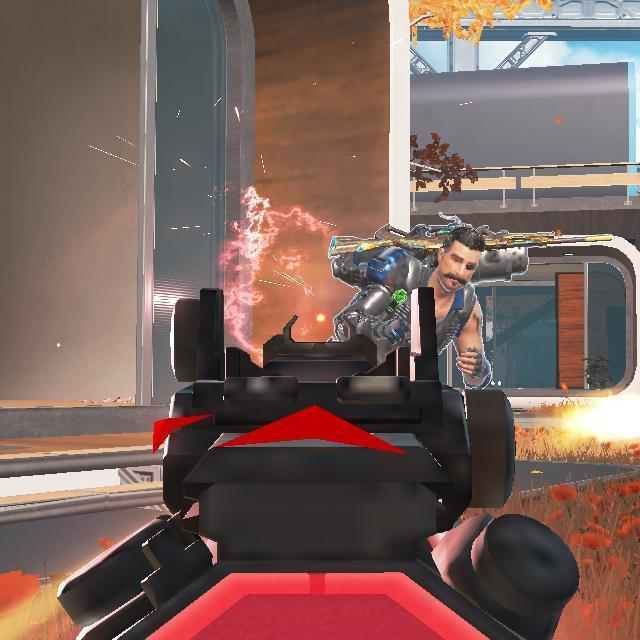avatar: (329, 224, 494, 390)
